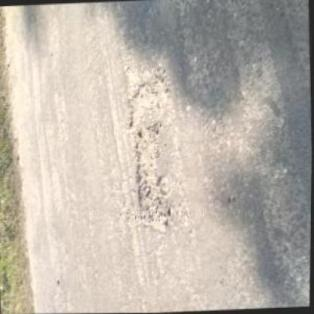Hueco: (125, 78, 175, 236)
